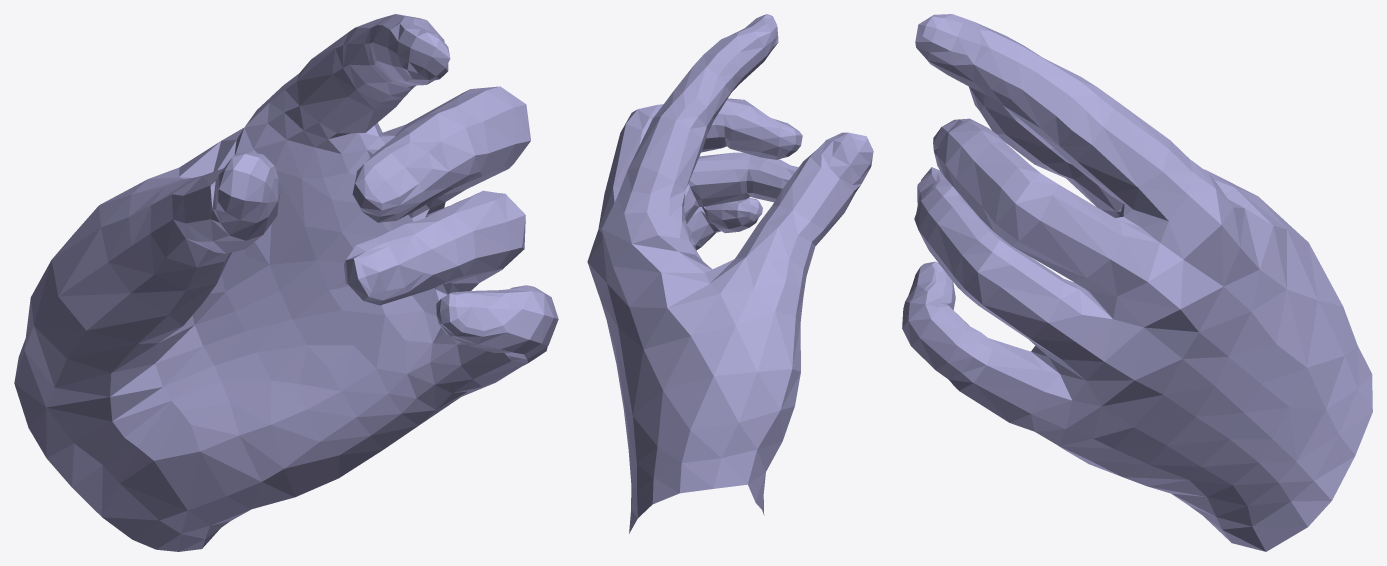
Rendered from hand_0114.glb.
3 renders of one model, left to right at view 1: azimuth 30°, elevation 25°; view 2: azimuth 150°, elevation 25°; view 3: azimuth 270°, elevation 25°, orthographic. The views are drawn at different scales.
Visible parts, largest first — view 1: world; view 2: world; view 3: world.
Boxes of the visible parts, x1=… form: world: x1=14, y1=14, x2=558, y2=551; world: x1=587, y1=14, x2=873, y2=533; world: x1=902, y1=14, x2=1372, y2=551.
Size of the model in its own units: 0.0891 by 0.151 by 0.1172.
